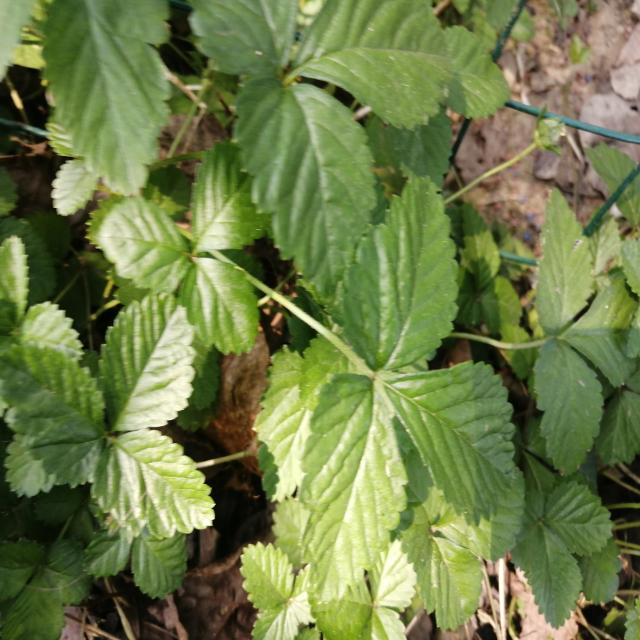Mock_strawberry: (277, 158, 503, 572)
